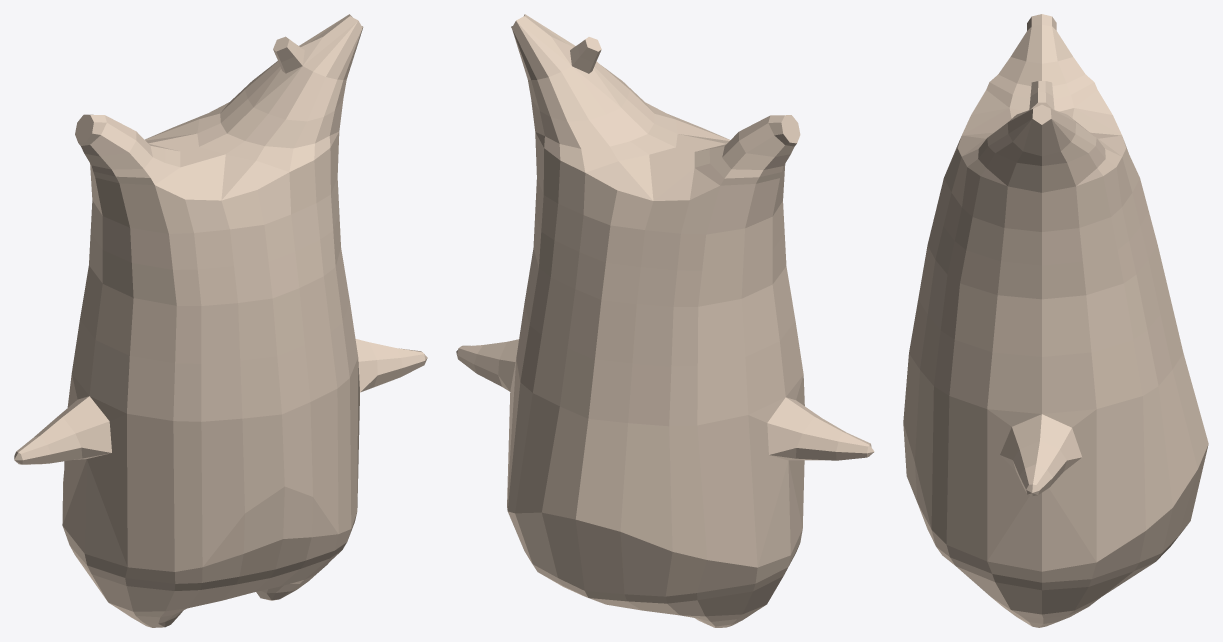
File: frame_0094.obj
3 renders of one model, left to right at view 1: azimuth 30°, elevation 25°; view 2: azimuth 150°, elevation 25°; view 3: azimuth 270°, elevation 25°, orthographic.
Parts seen in each view (by area): view 1: korok; view 2: korok; view 3: korok.
Boxes of the visible parts, x1,y1,x2,y2 form: korok: (14, 14, 427, 627); korok: (456, 14, 874, 627); korok: (903, 14, 1208, 627).
Size of the model in its own units: 1.66 by 2.16 by 1.07.
